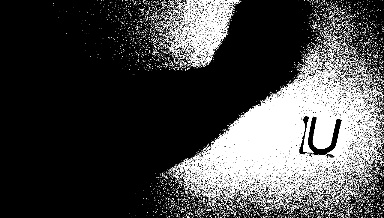U: (305, 113, 341, 154)
